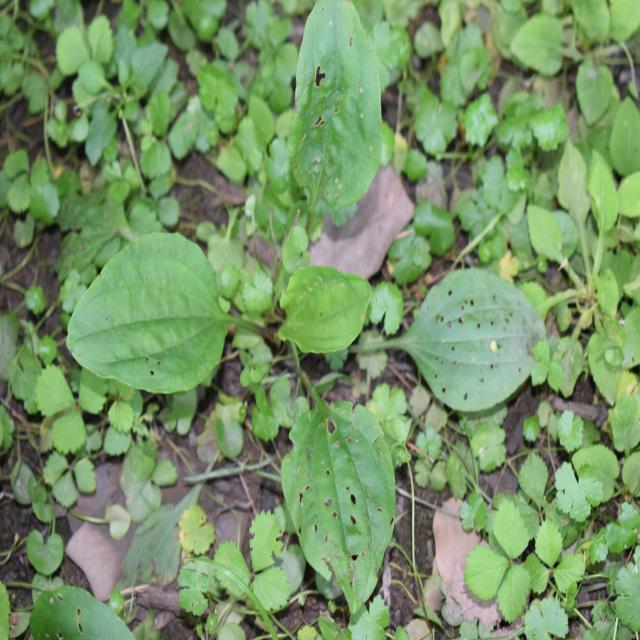plantain: (88, 90, 525, 539)
